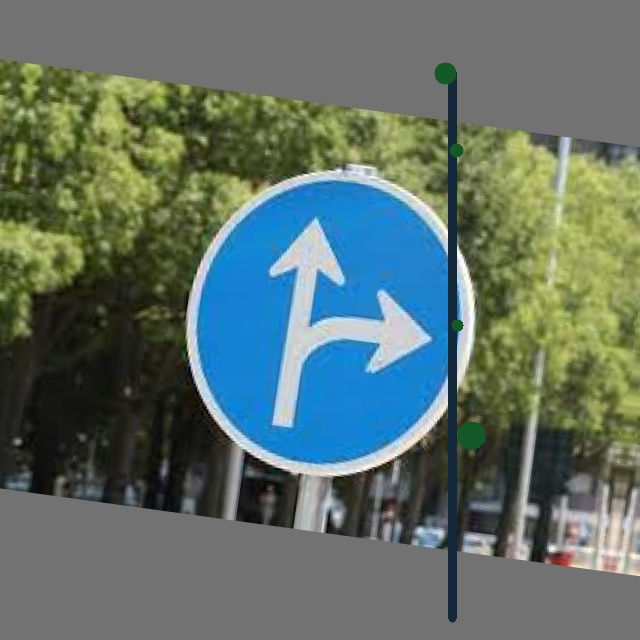Compulsory_Ahead_or_Turn_Right: (167, 155, 494, 497)
